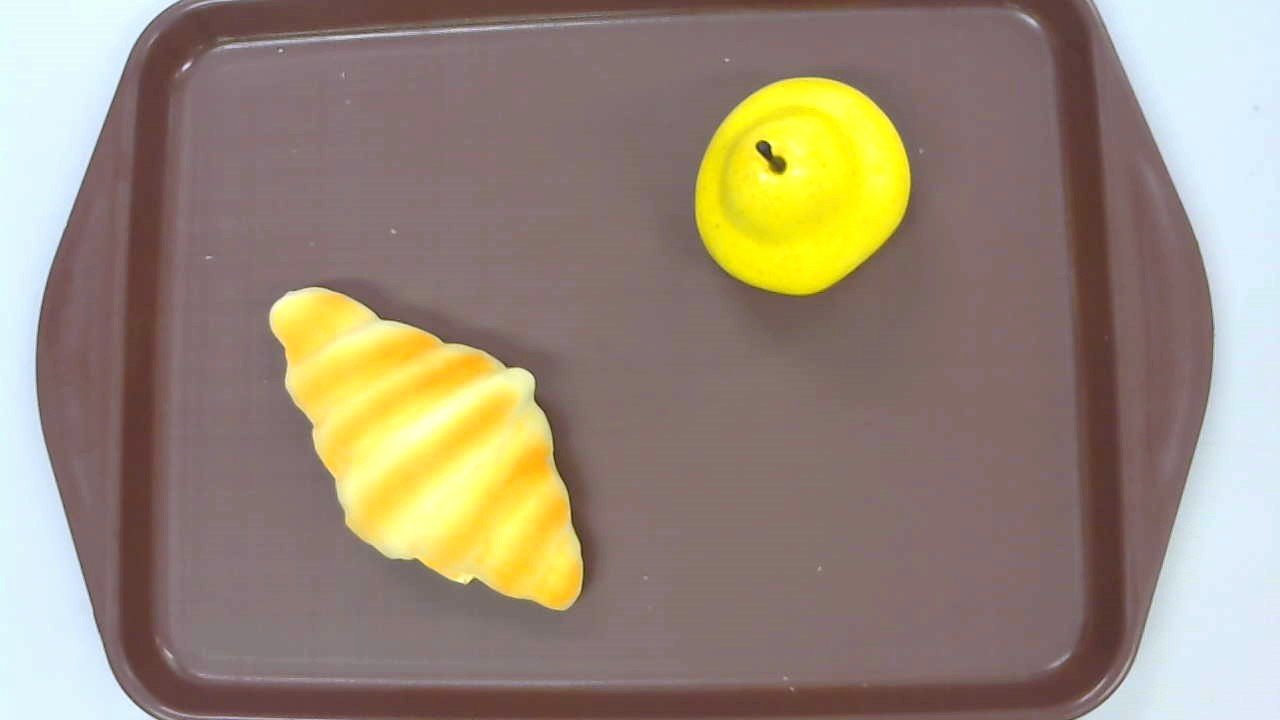croissant: (268, 284, 586, 613)
yellow pear: (694, 76, 911, 296)
